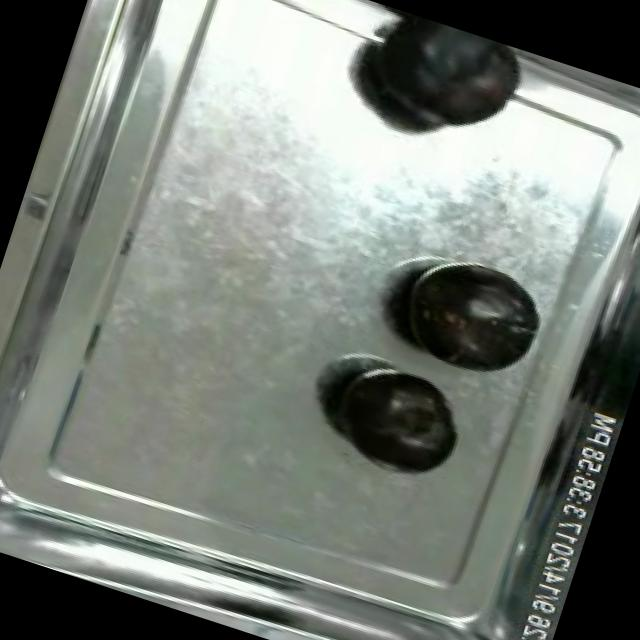Fruit: (339, 1, 532, 161), (382, 240, 563, 394), (315, 350, 474, 488)
